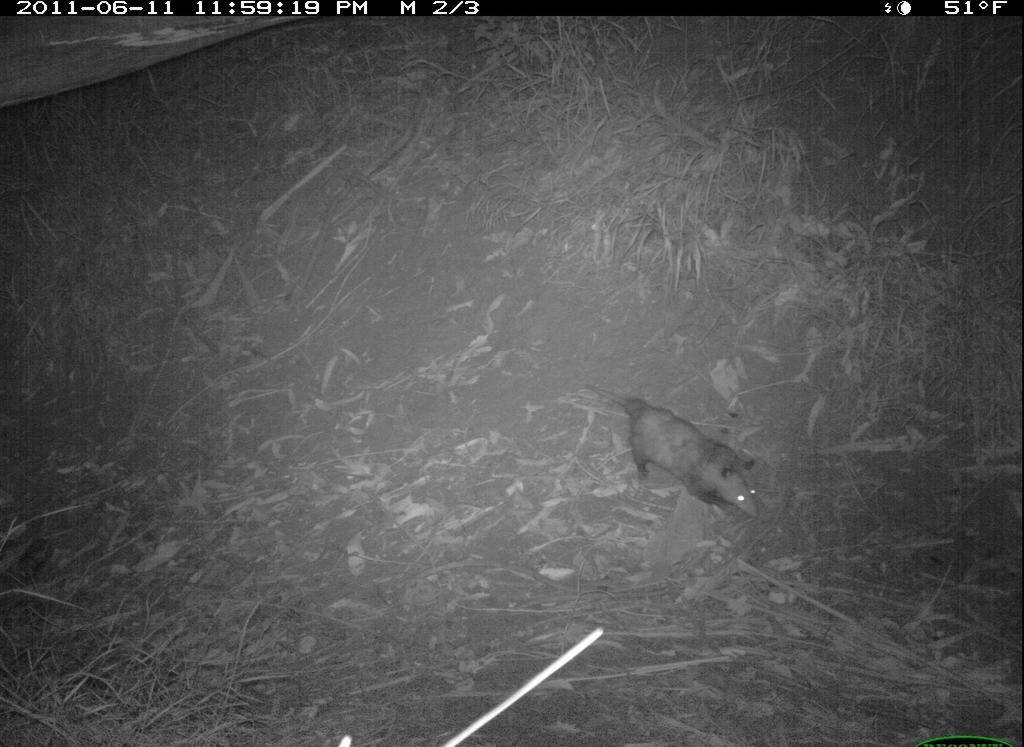opossum: (574, 373, 767, 527)
